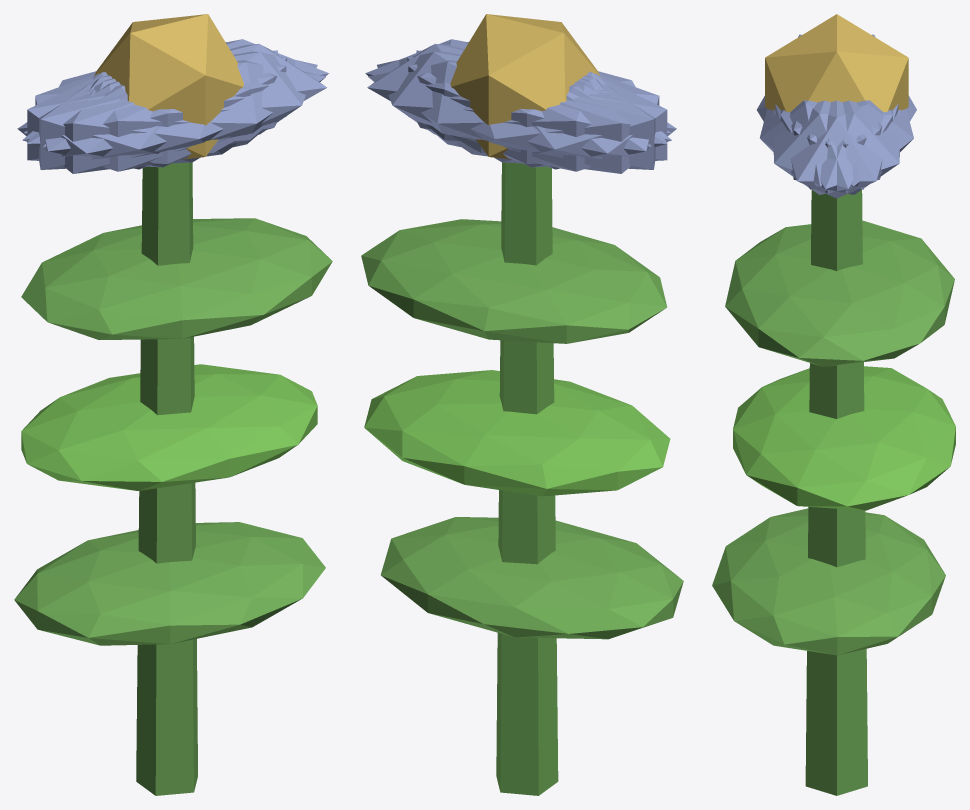
File: origanum-syriacum.glb
The picture shows the model from 3 angles, left to right: view 1: azimuth 30°, elevation 25°; view 2: azimuth 150°, elevation 25°; view 3: azimuth 270°, elevation 25°; orthographic projection.
Parts seen in each view (by area): view 1: leaf0, leaf2, leaf1, stem, center, petal1, petal6, petal2, petal5, petal7, petal0, petal4 (+2 smaller); view 2: leaf1, leaf2, leaf0, stem, center, petal8, petal3, petal7, petal4, petal2, petal0, petal5 (+2 smaller); view 3: leaf2, leaf1, leaf0, stem, center, petal0, petal4, petal5, petal1, petal8.
Boxes of the visible parts, box(x1,y1,x2,y2) form: leaf0: box(14, 522, 325, 645); leaf2: box(21, 218, 332, 339); leaf1: box(21, 364, 317, 490); stem: box(136, 162, 197, 795); center: box(94, 14, 243, 159); petal1: box(22, 60, 325, 171); petal6: box(17, 73, 237, 173); petal2: box(39, 50, 277, 169); petal5: box(43, 51, 317, 163); petal7: box(27, 57, 286, 167); petal0: box(94, 44, 326, 153); petal4: box(24, 39, 328, 144); leaf1: box(364, 370, 670, 496); leaf2: box(361, 219, 667, 343); leaf0: box(380, 517, 683, 639); stem: box(496, 162, 558, 795); center: box(450, 14, 599, 159); petal8: box(368, 60, 671, 171); petal3: box(457, 73, 676, 173); petal7: box(416, 50, 655, 169); petal4: box(377, 51, 651, 163); petal2: box(407, 57, 667, 167); petal0: box(367, 43, 600, 153); petal5: box(365, 39, 670, 144); leaf2: box(725, 220, 954, 366); leaf1: box(733, 366, 955, 510); leaf0: box(712, 508, 945, 655); stem: box(805, 190, 867, 795); center: box(765, 14, 908, 112); petal0: box(775, 100, 898, 198); petal4: box(780, 100, 900, 194); petal5: box(773, 100, 892, 194); petal1: box(760, 100, 882, 186); petal8: box(791, 100, 913, 186).
Size of the model in its own units: 0.1452 by 0.3524 by 0.1039.
